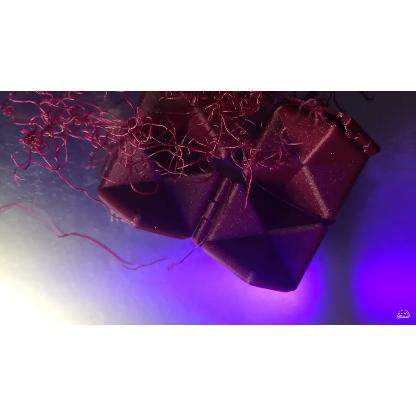fail: (10, 92, 274, 178)
